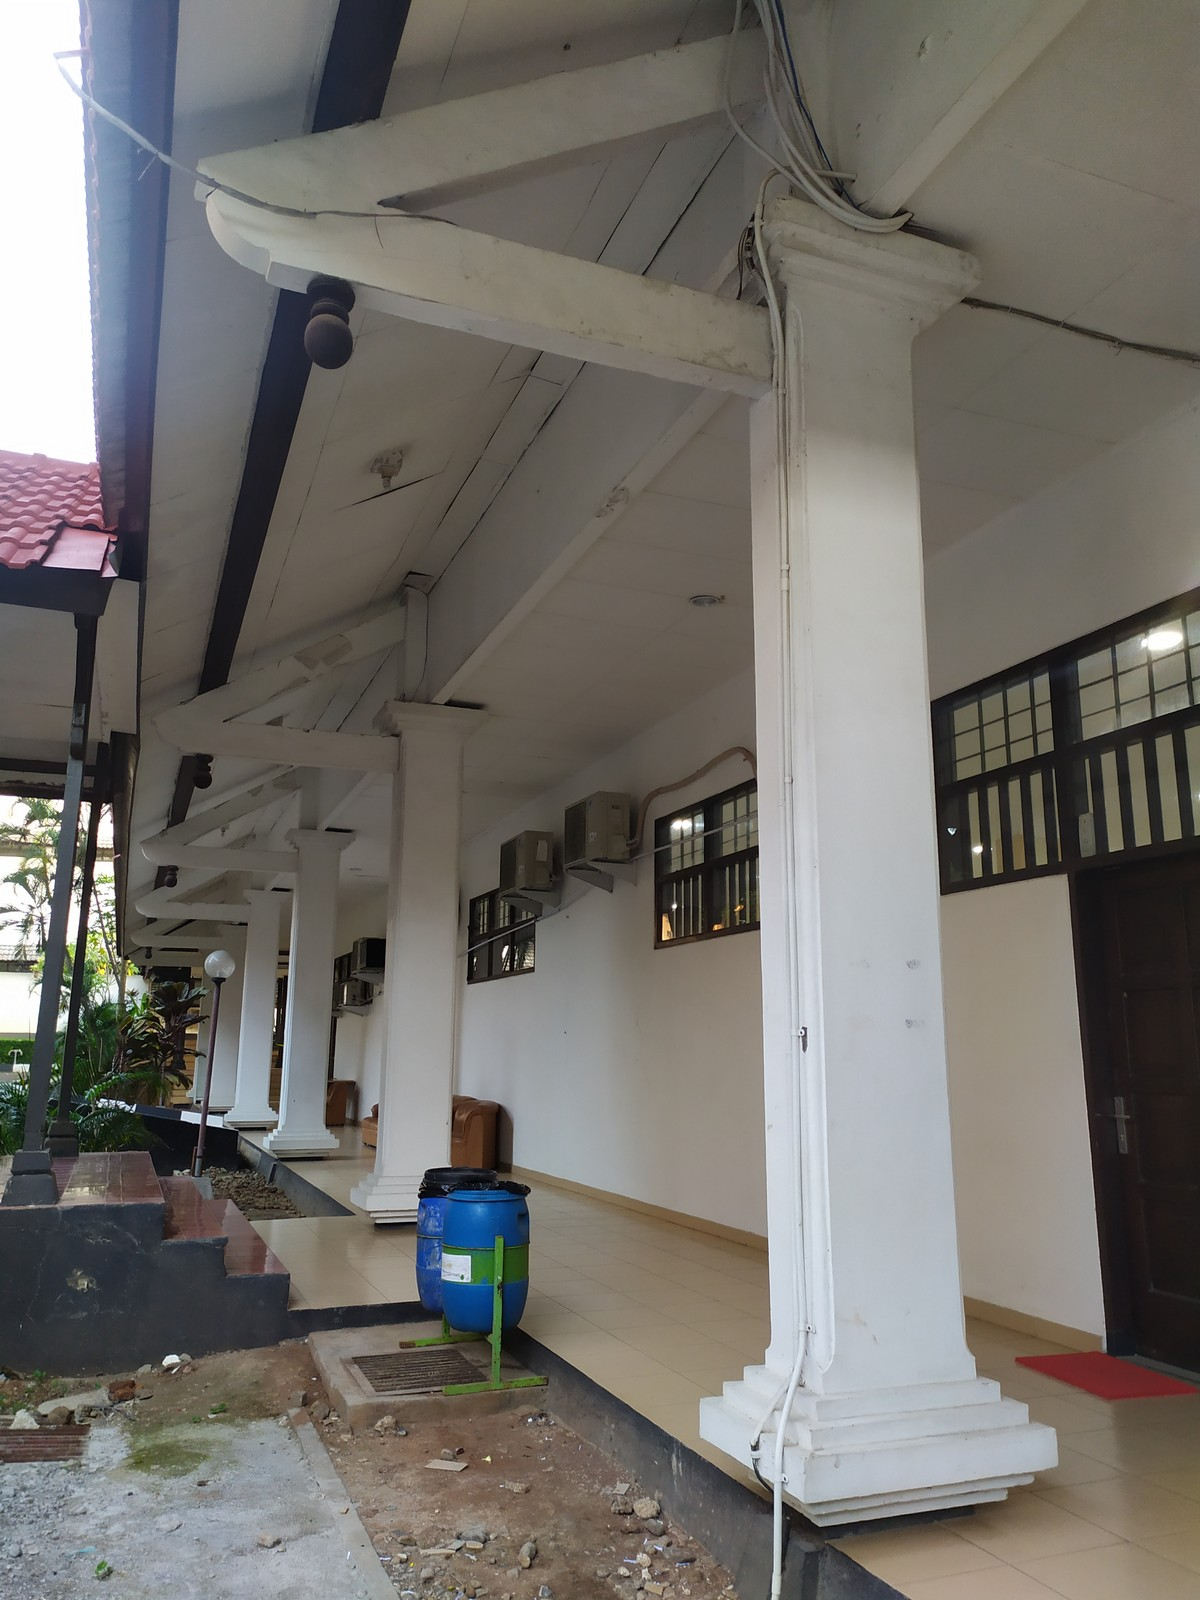concrete beam: (361, 208, 784, 401), (224, 722, 403, 784)
concrete column: (732, 301, 991, 1393), (363, 707, 476, 1169), (272, 843, 344, 1134)
